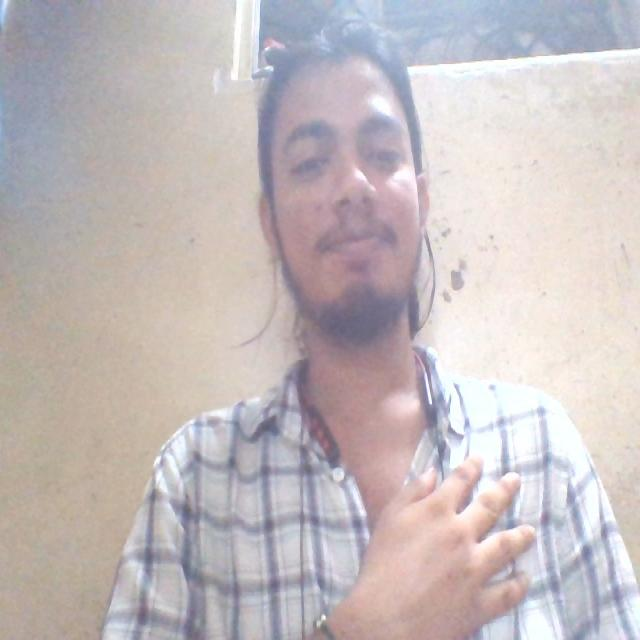I love u: (316, 438, 549, 640)
